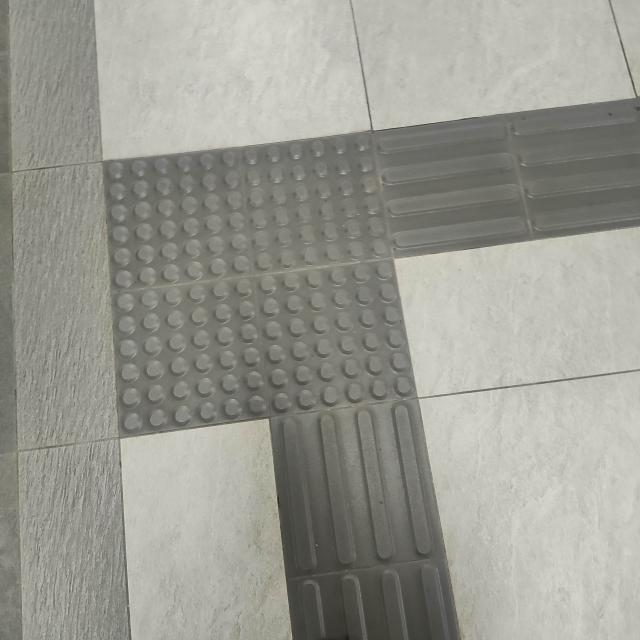kanan: (62, 85, 640, 507)
